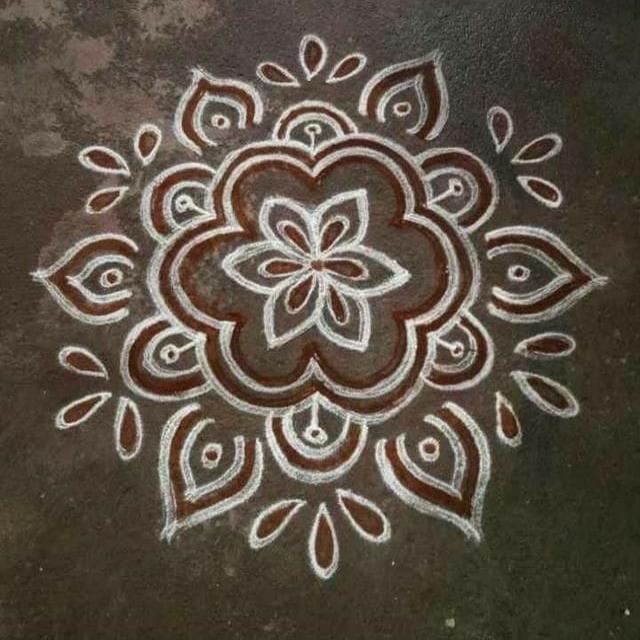rangoli: (22, 22, 618, 590)
